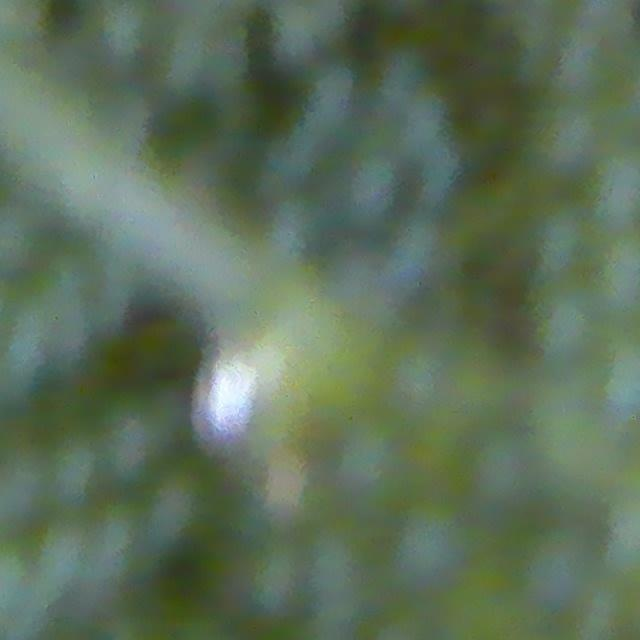SeaGrape: (385, 498, 479, 593), (514, 521, 603, 614), (464, 426, 550, 515), (333, 419, 409, 506), (527, 100, 605, 181), (235, 540, 313, 621), (532, 288, 601, 362), (527, 202, 592, 274), (588, 142, 640, 225), (44, 436, 97, 508), (0, 459, 52, 529), (110, 401, 155, 480), (144, 472, 192, 546), (596, 232, 640, 308), (30, 527, 88, 582), (599, 341, 640, 416), (92, 509, 137, 573)
